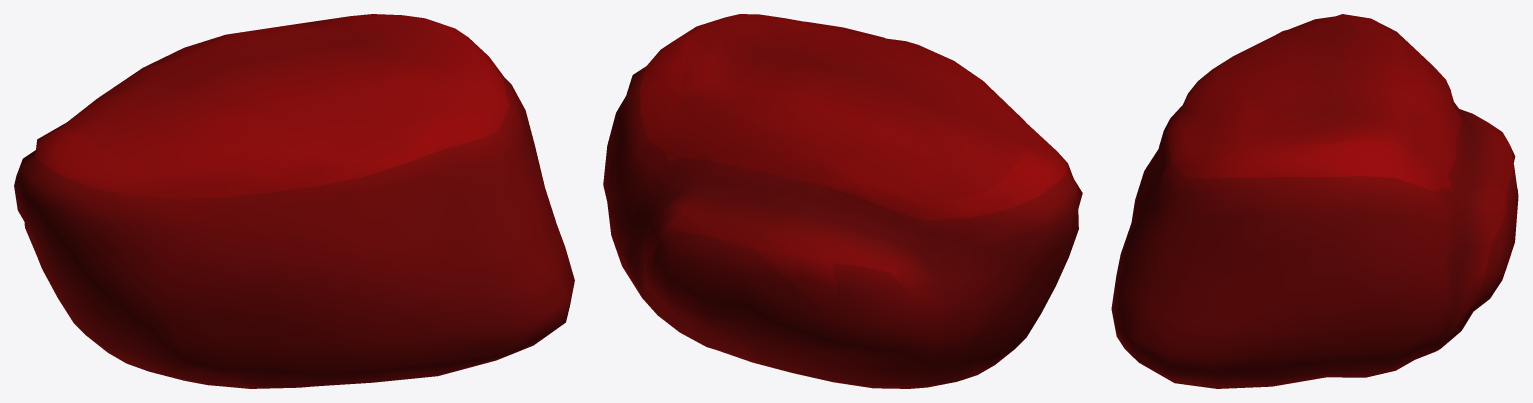
File: geology-rocks-rocklarge_v6.fbx
3 renders of one model, left to right at view 1: azimuth 30°, elevation 25°; view 2: azimuth 150°, elevation 25°; view 3: azimuth 270°, elevation 25°, orthographic. The views are drawn at different scales.
Parts seen in each view (by area): view 1: RockLarge_v6; view 2: RockLarge_v6; view 3: RockLarge_v6.
Part boxes in pixels (<box>): RockLarge_v6: <box>14,14,574,388</box>; RockLarge_v6: <box>603,14,1082,388</box>; RockLarge_v6: <box>1111,14,1518,388</box>.
Bounding box in the file's own units: 12.34 × 7.15 × 10.16.
